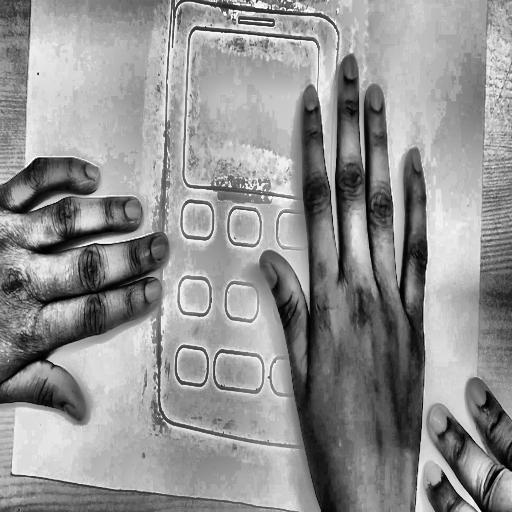bottom_left: (9, 468, 15, 479)
mobile: (148, 0, 350, 457)
